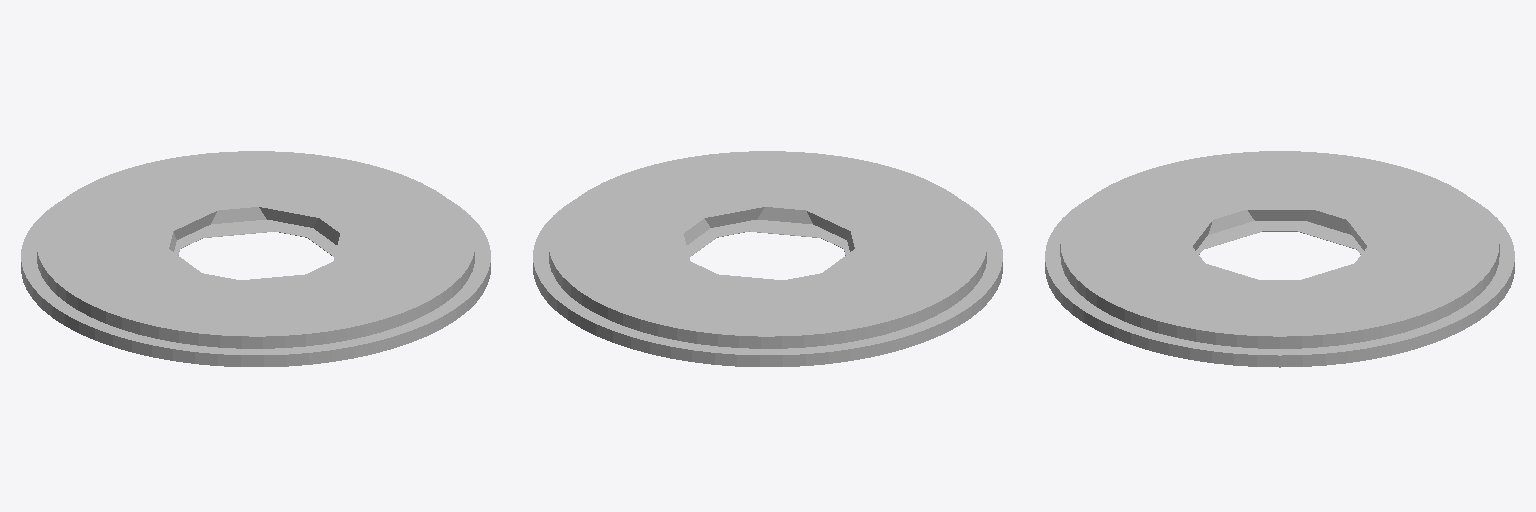
Rendered from PavillionTop.obj.
3 renders of one model, left to right at view 1: azimuth 30°, elevation 25°; view 2: azimuth 150°, elevation 25°; view 3: azimuth 270°, elevation 25°, orthographic.
Size of the model in its own units: 53.55 by 3.05 by 53.55.